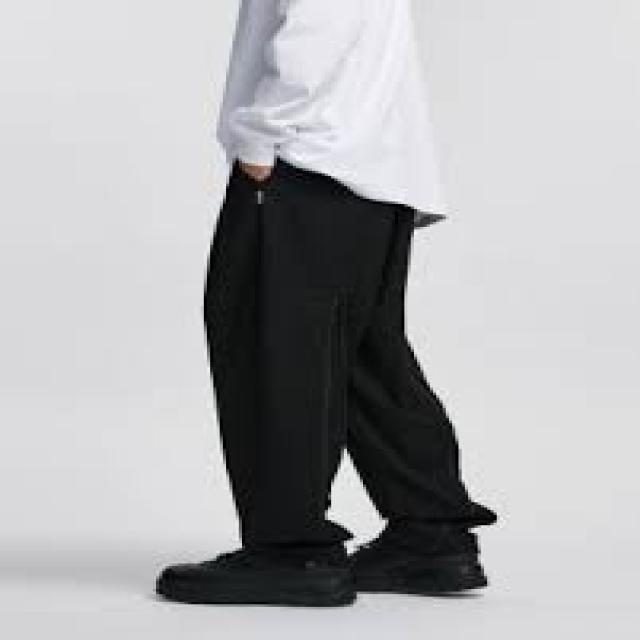pants: (202, 148, 503, 547)
